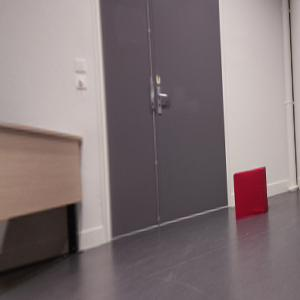medium: (231, 165, 271, 223)
